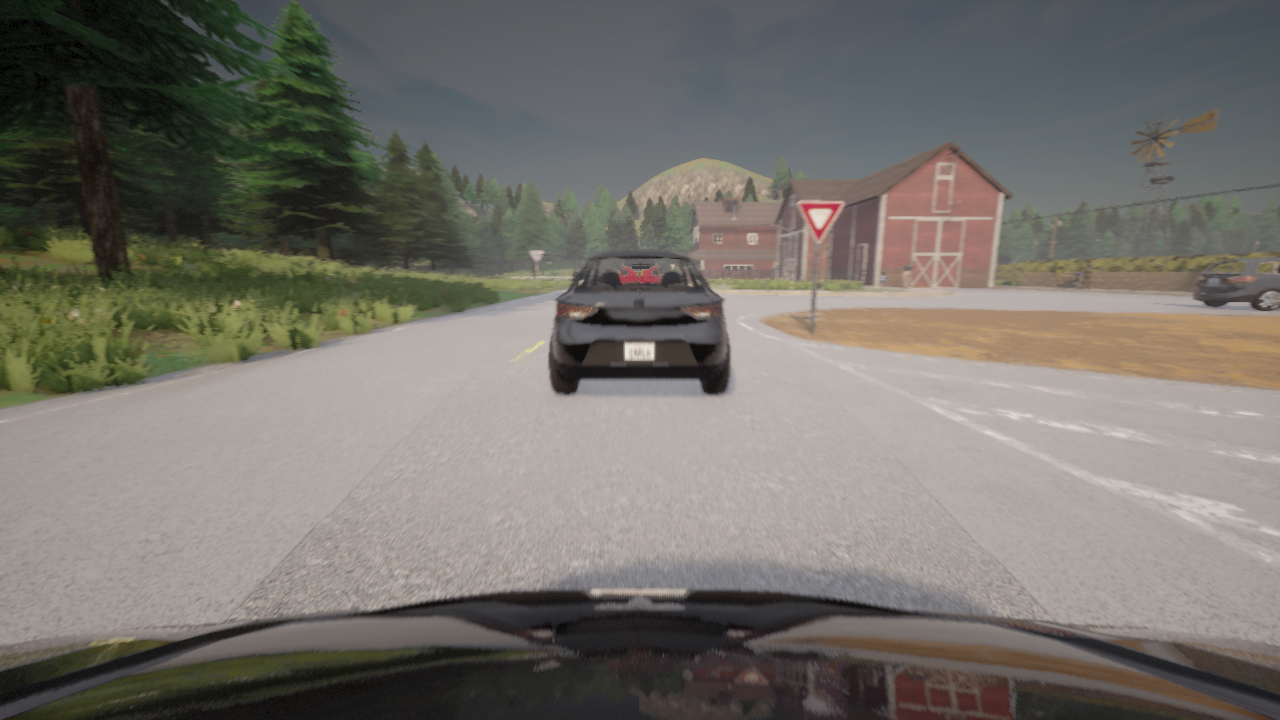cyclist: (0, 588, 1279, 719), (549, 249, 729, 393), (1192, 257, 1279, 311), (572, 270, 579, 281)
pedestrian: (1080, 258, 1092, 288), (901, 260, 912, 287), (1071, 269, 1080, 288), (879, 272, 885, 289)
